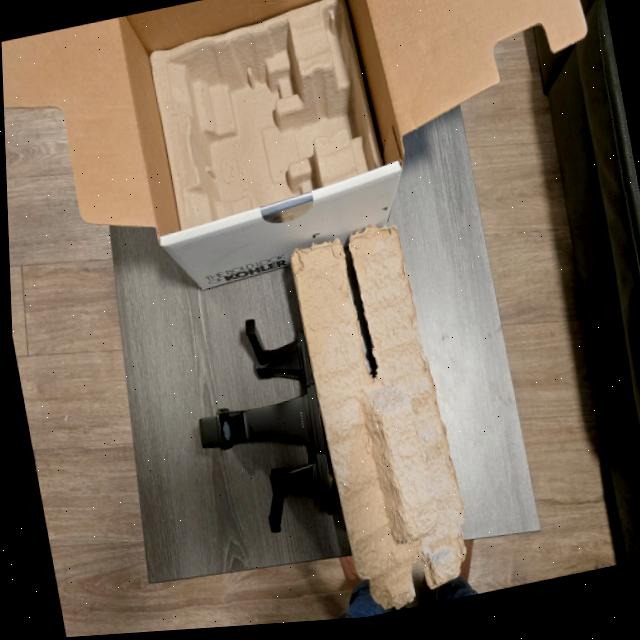9o: (198, 319, 337, 533)
